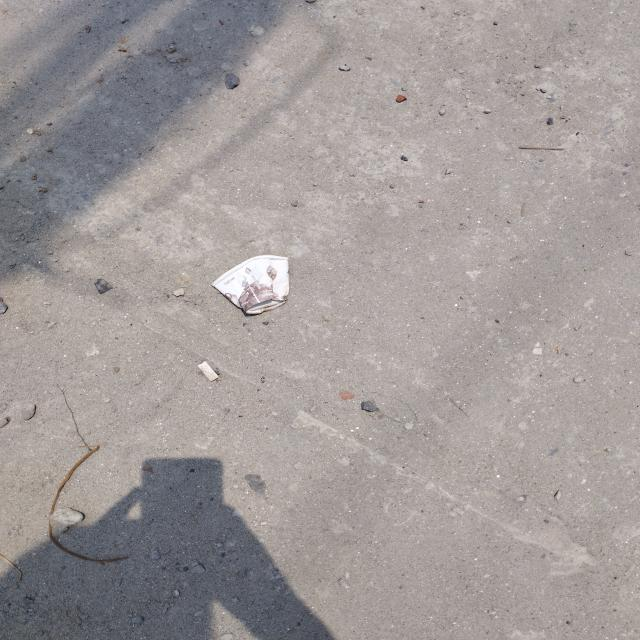paper: (213, 254, 296, 314)
